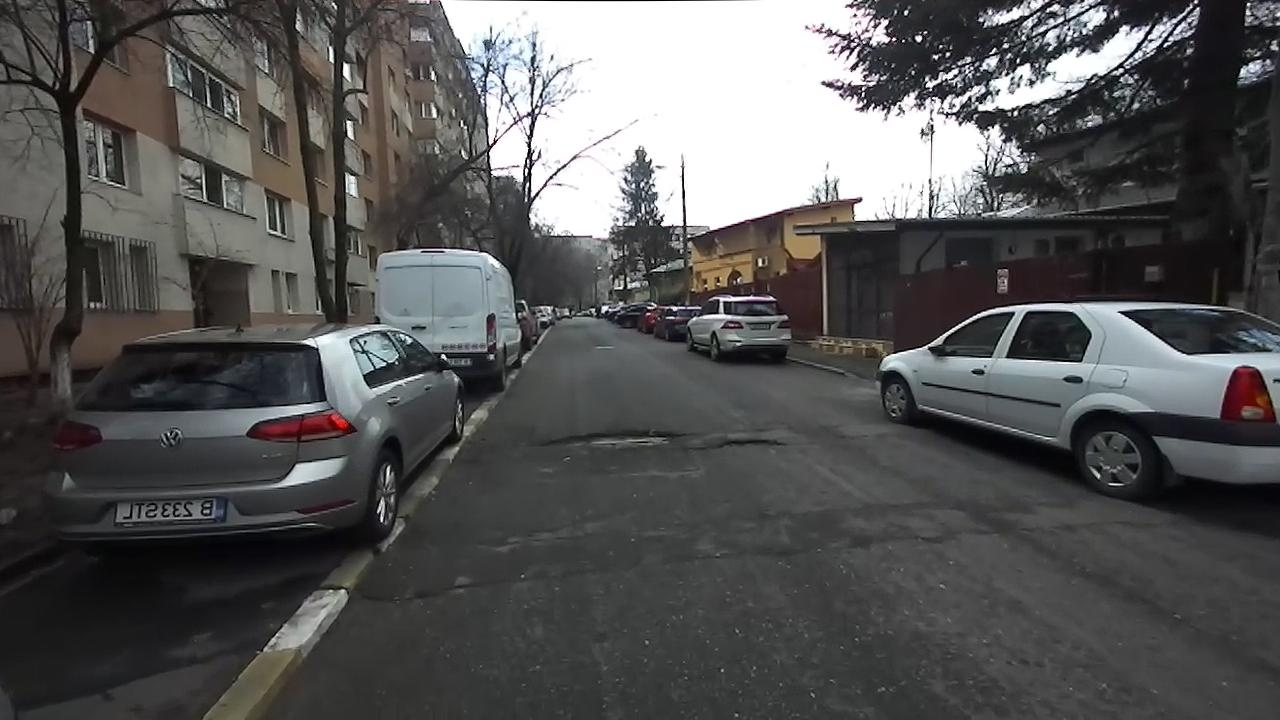pothole: (534, 424, 694, 456), (364, 578, 477, 610), (705, 432, 789, 449)
